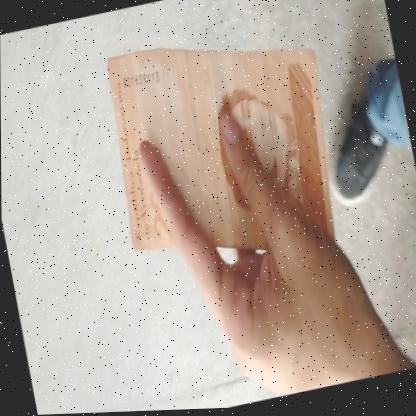twenty-front-vef: (95, 17, 348, 287)
